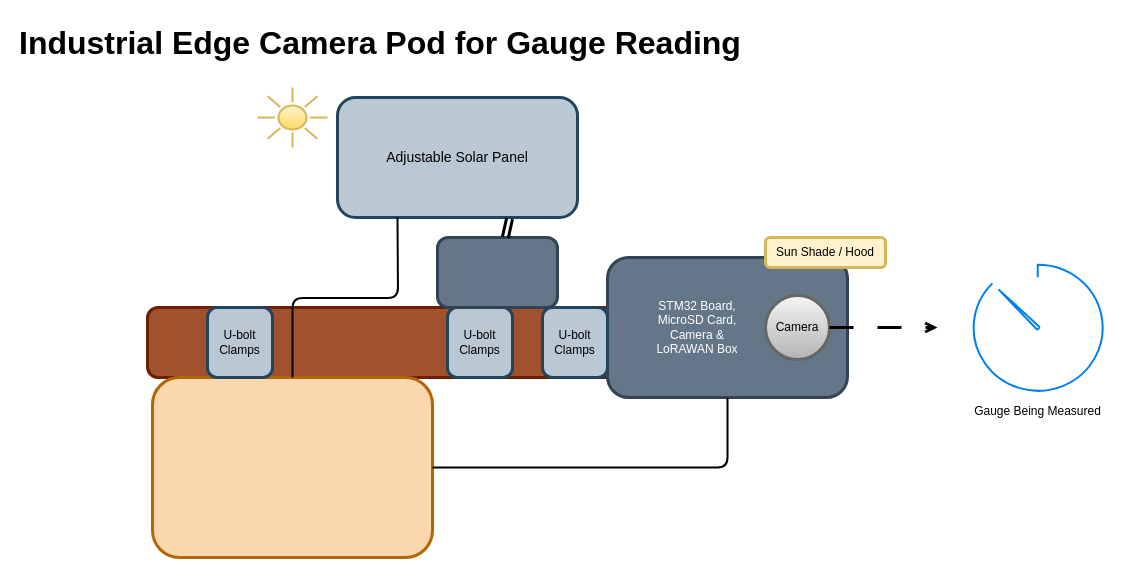
The diagram is 1125 pixels wide and 576 high, and some of its shapes have lost their labels. The shapes that lost their labels are listed below. From the top down, each one's box as (x1, y1, x2, y2) in pixels, then its label:
(436, 236, 558, 308): Tilt Bracket
(146, 306, 738, 378): Pipe / Handrail
(150, 376, 434, 558): Power Box (Battery + Charge Controller)
